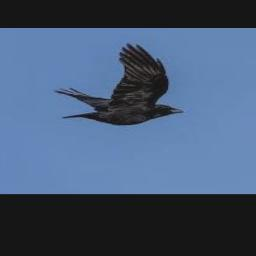Crow: (55, 44, 185, 125)
